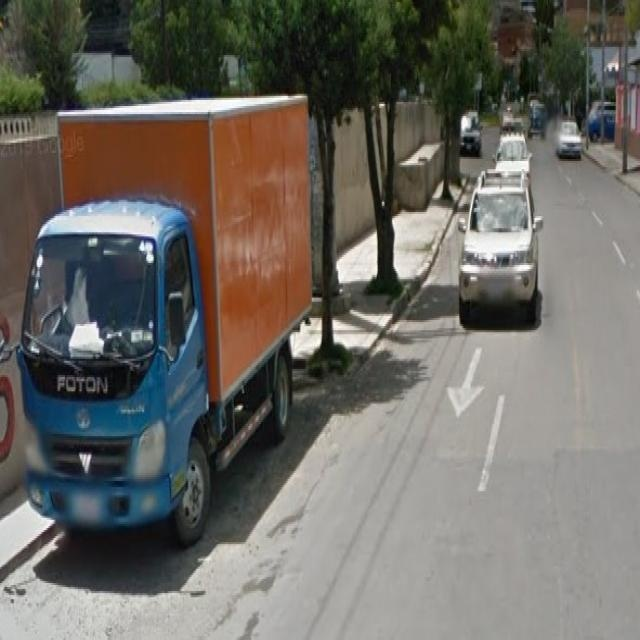Car: (464, 174, 544, 336), (500, 129, 536, 184), (554, 117, 578, 168)
Truck: (20, 124, 322, 559)
